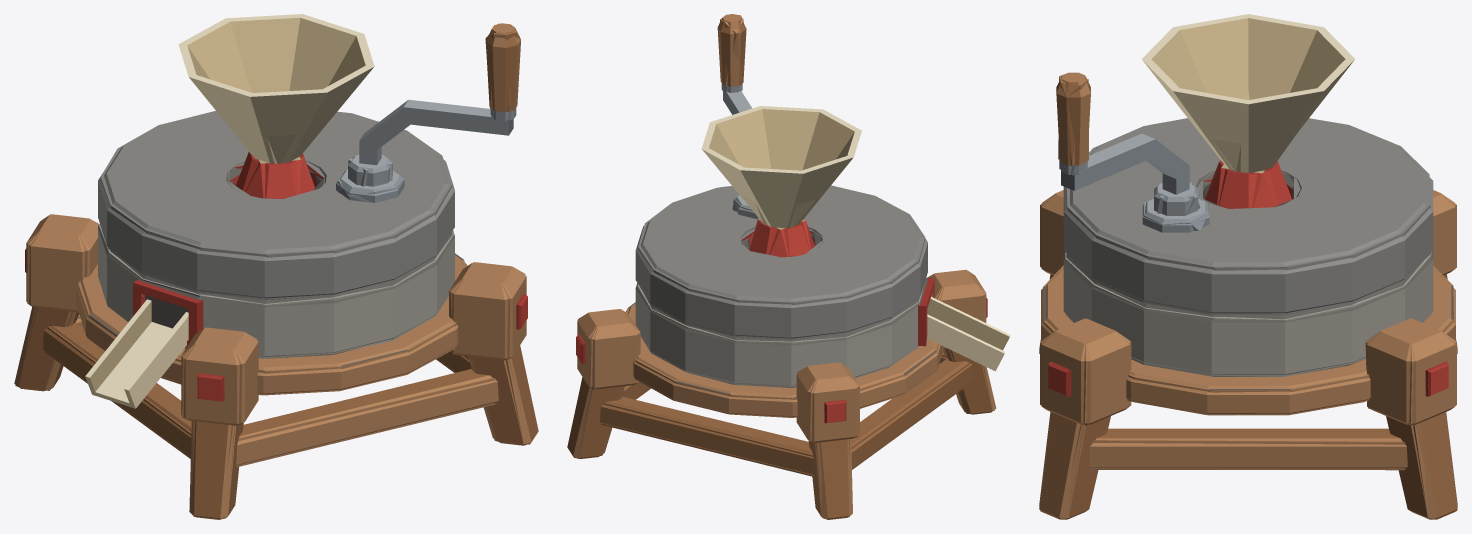
Rendered from FMS_Workshop_STA_06.fbx.
The picture shows the model from 3 angles, left to right: view 1: azimuth 30°, elevation 25°; view 2: azimuth 150°, elevation 25°; view 3: azimuth 270°, elevation 25°; orthographic projection. The views are drawn at different scales.
Visible parts, largest first — view 1: FMS_Workshop_STA_06_Base, FMS_Workshop_STA_06_UpperStone, FMS_Workshop_STA_06_Base_Low1, FMS_Workshop_STA_06_Crank, FMS_Workshop_STA_06_UpperStone_Low1, FMS_Workshop_STA_06_Crank_Low1; view 2: FMS_Workshop_STA_06_Base, FMS_Workshop_STA_06_UpperStone, FMS_Workshop_STA_06_Base_Low1, FMS_Workshop_STA_06_UpperStone_Low1, FMS_Workshop_STA_06_Crank, FMS_Workshop_STA_06_Crank_Low1; view 3: FMS_Workshop_STA_06_Base, FMS_Workshop_STA_06_UpperStone, FMS_Workshop_STA_06_Base_Low1, FMS_Workshop_STA_06_Crank, FMS_Workshop_STA_06_UpperStone_Low1, FMS_Workshop_STA_06_Crank_Low1.
Boxes of the visible parts, x1=… form: FMS_Workshop_STA_06_Base: x1=14, y1=214, x2=538, y2=519; FMS_Workshop_STA_06_UpperStone: x1=98, y1=14, x2=454, y2=299; FMS_Workshop_STA_06_Base_Low1: x1=15, y1=214, x2=530, y2=519; FMS_Workshop_STA_06_Crank: x1=336, y1=23, x2=520, y2=202; FMS_Workshop_STA_06_UpperStone_Low1: x1=100, y1=88, x2=452, y2=299; FMS_Workshop_STA_06_Crank_Low1: x1=337, y1=23, x2=520, y2=202; FMS_Workshop_STA_06_Base: x1=567, y1=269, x2=1010, y2=519; FMS_Workshop_STA_06_UpperStone: x1=635, y1=106, x2=927, y2=339; FMS_Workshop_STA_06_Base_Low1: x1=573, y1=270, x2=994, y2=519; FMS_Workshop_STA_06_UpperStone_Low1: x1=638, y1=166, x2=925, y2=339; FMS_Workshop_STA_06_Crank: x1=717, y1=14, x2=758, y2=219; FMS_Workshop_STA_06_Crank_Low1: x1=720, y1=14, x2=752, y2=211; FMS_Workshop_STA_06_Base: x1=1039, y1=190, x2=1457, y2=519; FMS_Workshop_STA_06_UpperStone: x1=1063, y1=14, x2=1433, y2=314; FMS_Workshop_STA_06_Base_Low1: x1=1039, y1=190, x2=1457, y2=519; FMS_Workshop_STA_06_Crank: x1=1056, y1=72, x2=1209, y2=232; FMS_Workshop_STA_06_UpperStone_Low1: x1=1065, y1=90, x2=1430, y2=314; FMS_Workshop_STA_06_Crank_Low1: x1=1058, y1=74, x2=1208, y2=230.
Size of the model in its own units: 0.9331 by 0.8996 by 0.7956.
